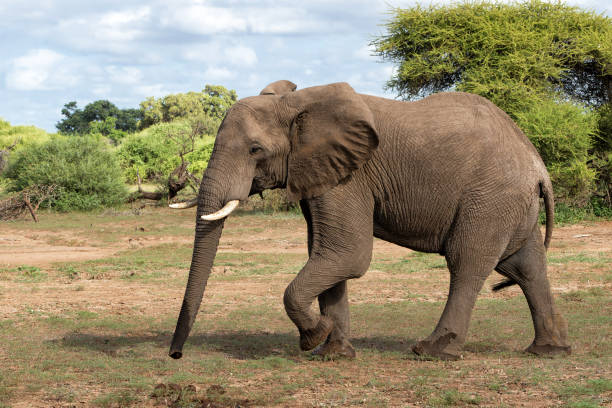africanelephant: (174, 90, 375, 280)
